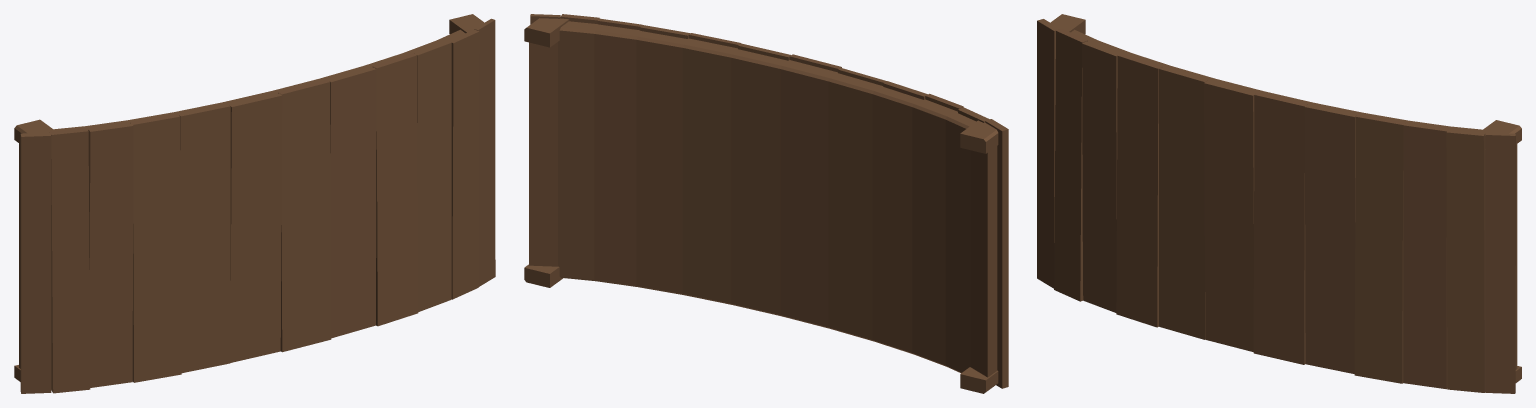
The model's file is Bridge_03.fbx.
The picture shows the model from 3 angles, left to right: view 1: azimuth 30°, elevation 25°; view 2: azimuth 150°, elevation 25°; view 3: azimuth 330°, elevation 25°; orthographic projection.
Parts seen in each view (by area): view 1: bridge_2.001; view 2: bridge_2.001; view 3: bridge_2.001.
Boxes of the visible parts, <box> form: bridge_2.001: <box>14,14,495,393</box>; bridge_2.001: <box>524,14,1008,393</box>; bridge_2.001: <box>1037,14,1521,393</box>.
Size of the model in its own units: 370 by 191 by 50.69.
